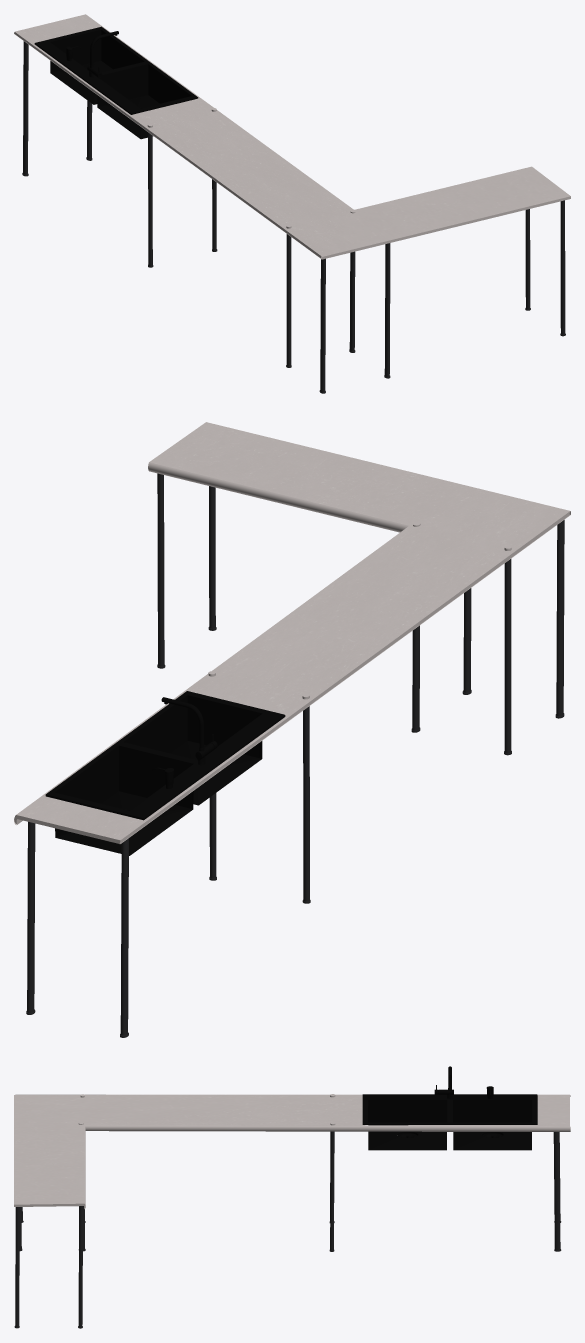
The model's file is BarraFregadero.obj.
The picture shows the model from 3 angles, top to bottom: view 1: azimuth 30°, elevation 25°; view 2: azimuth 150°, elevation 25°; view 3: azimuth 270°, elevation 25°; orthographic projection. The views are drawn at different scales.
Visible parts, largest first — view 1: BarraCafes:DGeom_189; view 2: BarraCafes:DGeom_189; view 3: BarraCafes:DGeom_189.
Boxes of the visible parts, bbox=[...] form: BarraCafes:DGeom_189: bbox=[14, 14, 570, 393]; BarraCafes:DGeom_189: bbox=[14, 422, 570, 1037]; BarraCafes:DGeom_189: bbox=[14, 1066, 570, 1328].
Bounding box in the file's own units: 3.03 × 2.09 × 6.5.
3 materials, 2 textured.
